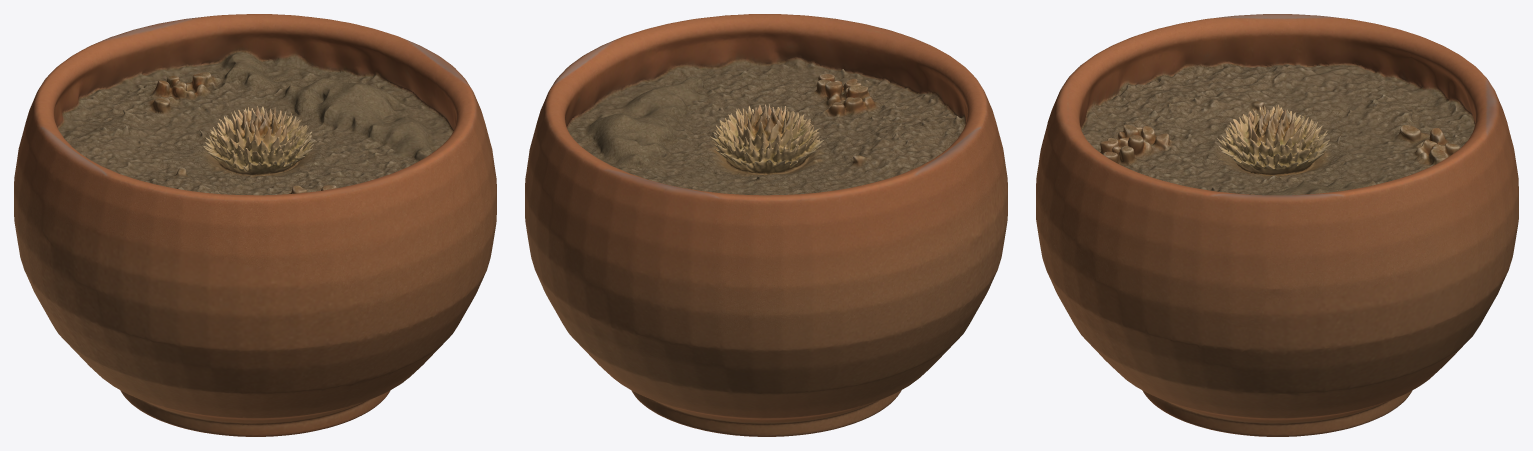
The model's file is prop05.glb.
The picture shows the model from 3 angles, left to right: view 1: azimuth 30°, elevation 25°; view 2: azimuth 150°, elevation 25°; view 3: azimuth 270°, elevation 25°; orthographic projection.
Visible parts, largest first — view 1: mesh_node; view 2: mesh_node; view 3: mesh_node.
Part boxes in pixels (left/top/right/bottom): mesh_node: left=14, top=14, right=496, bottom=436; mesh_node: left=525, top=14, right=1007, bottom=436; mesh_node: left=1036, top=14, right=1518, bottom=436.
Size of the model in its own units: 1.9 by 1.19 by 1.89.
Materials: 1 (1 with a texture image).
